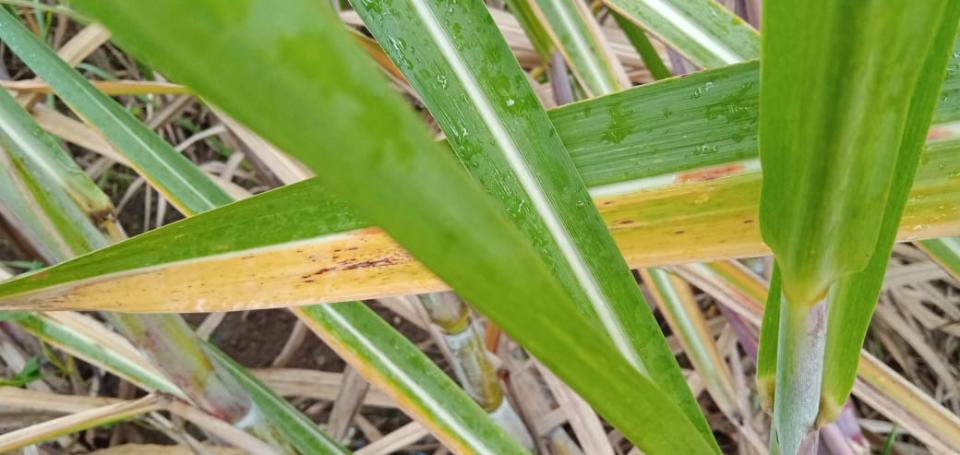RedRot: (675, 162, 746, 183)
Rust: (342, 257, 394, 271), (314, 266, 337, 275), (337, 258, 358, 266), (344, 245, 360, 252), (618, 220, 635, 225), (674, 229, 687, 235), (300, 274, 312, 280), (743, 219, 754, 225), (603, 200, 613, 206), (302, 280, 315, 283), (296, 250, 304, 253), (334, 249, 342, 252), (308, 255, 313, 259), (312, 259, 317, 263)
Yellow: (1, 227, 454, 313), (286, 305, 474, 454), (594, 172, 772, 269), (70, 109, 194, 218), (895, 209, 959, 244)
